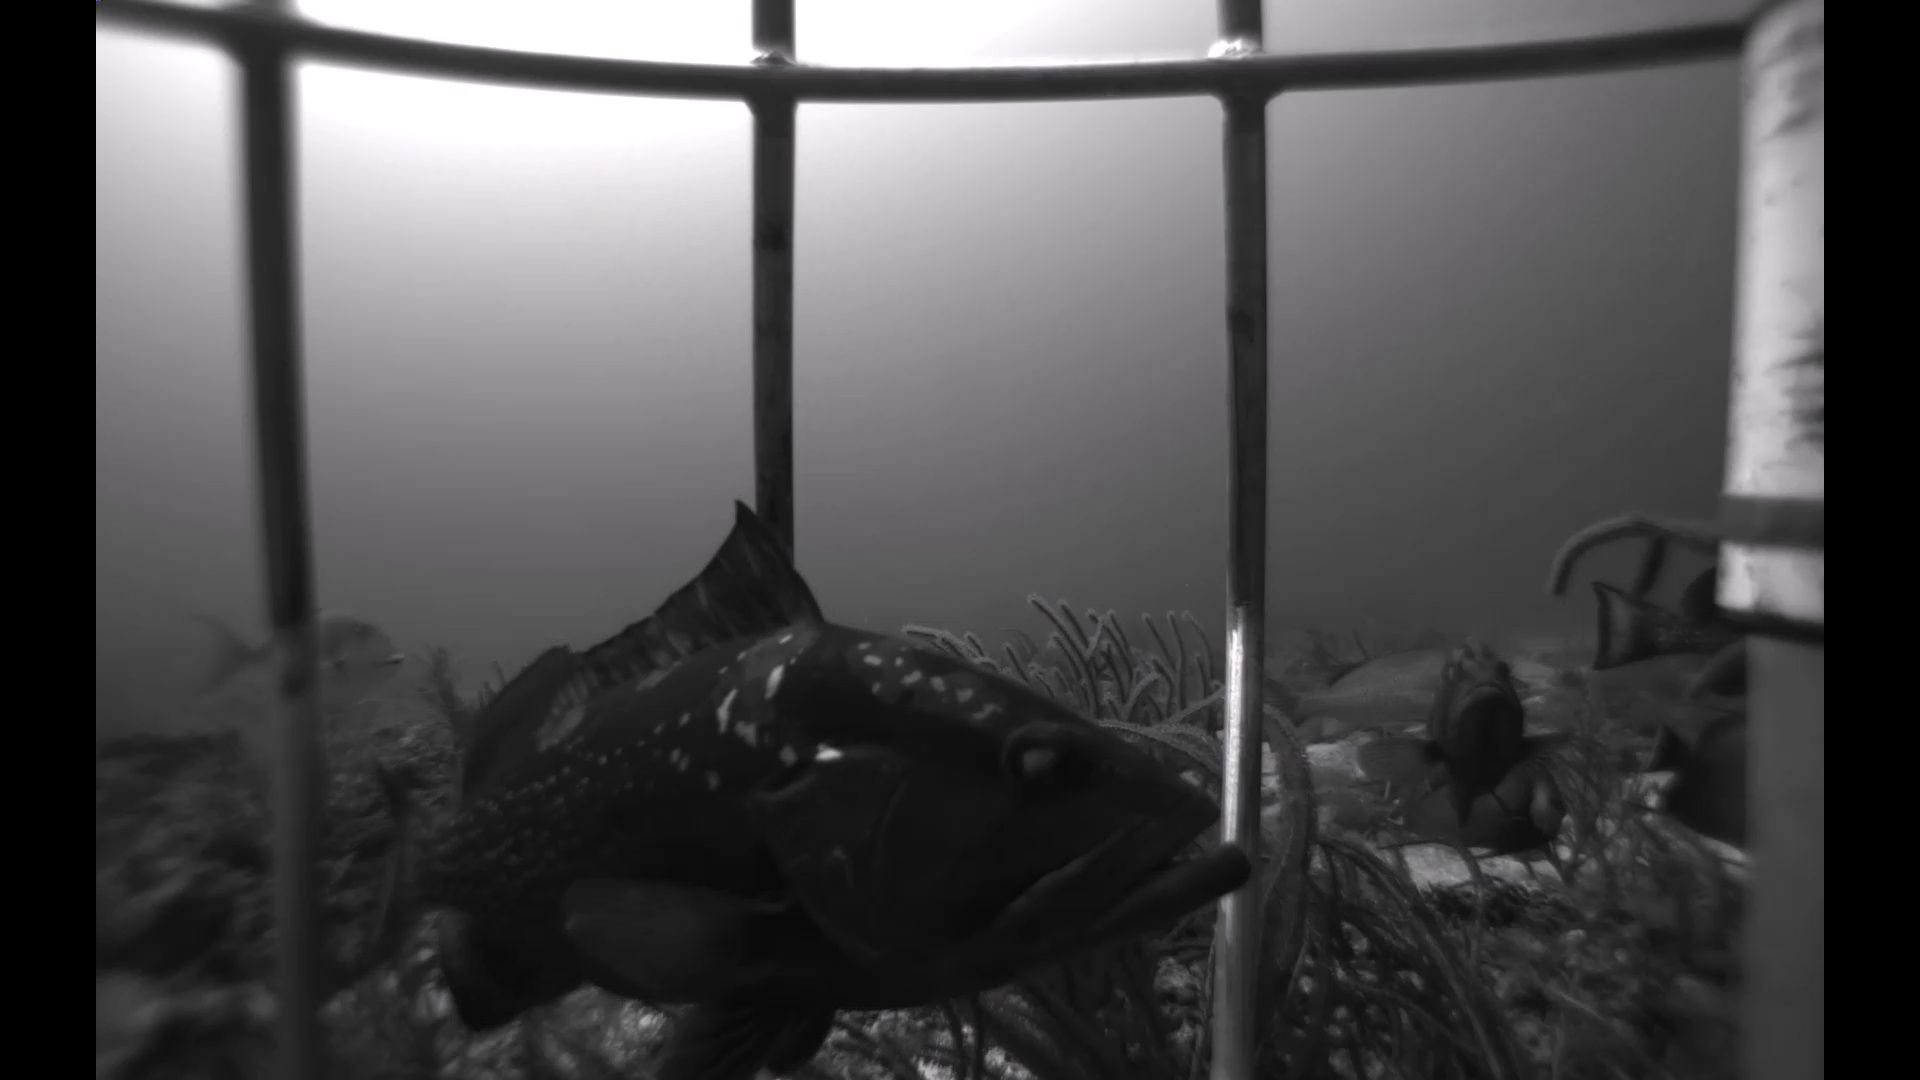BALISTESCAPRISCUS-189030502: (177, 600, 413, 709)
EPINEPHELUSMORIO-170021211: (351, 462, 1275, 1080), (1364, 622, 1597, 837), (1580, 560, 1733, 688)
LACHNOLAIMUSMAXIMUS-170281801: (1167, 756, 1226, 808)
LUTJANUSGRISEUS-170151109: (1259, 625, 1547, 750)
POMACANTHUSARCUATUS-170290201: (1379, 742, 1575, 866), (1633, 708, 1753, 858)
